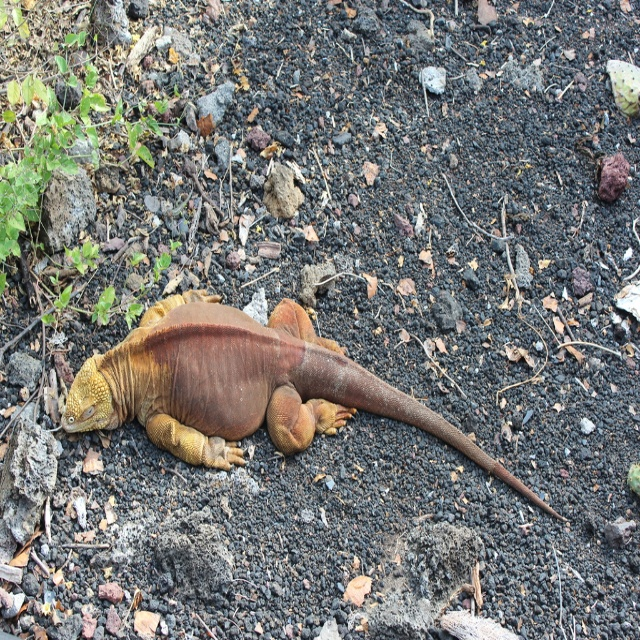Lizard: (60, 284, 565, 522)
